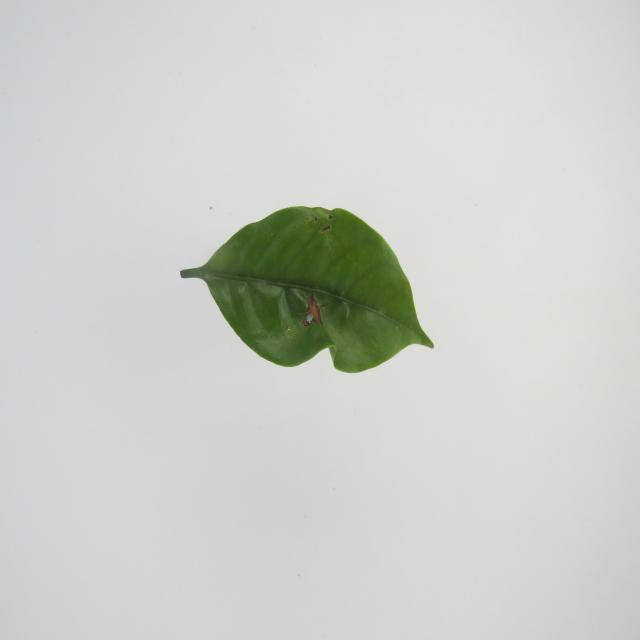DeficienciaNutricional-Calcio: (181, 207, 434, 372)
